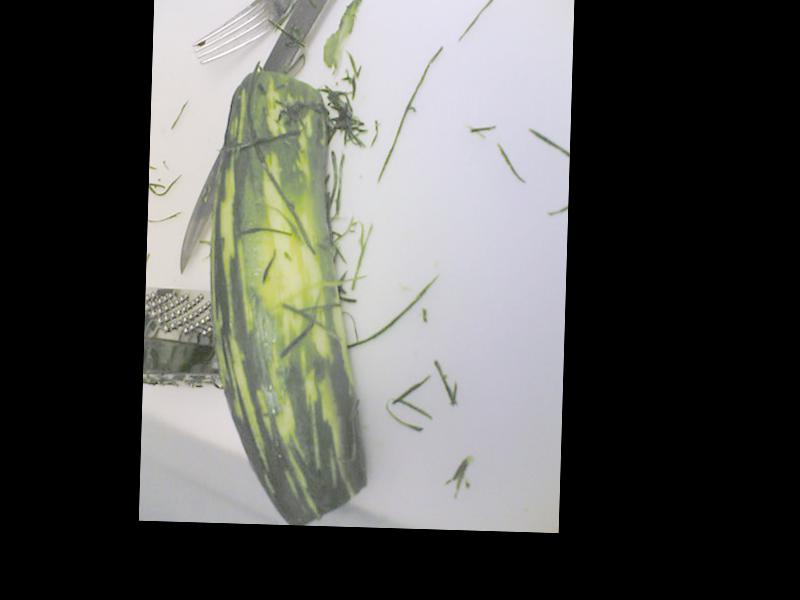Cucumber: (203, 68, 379, 524)
